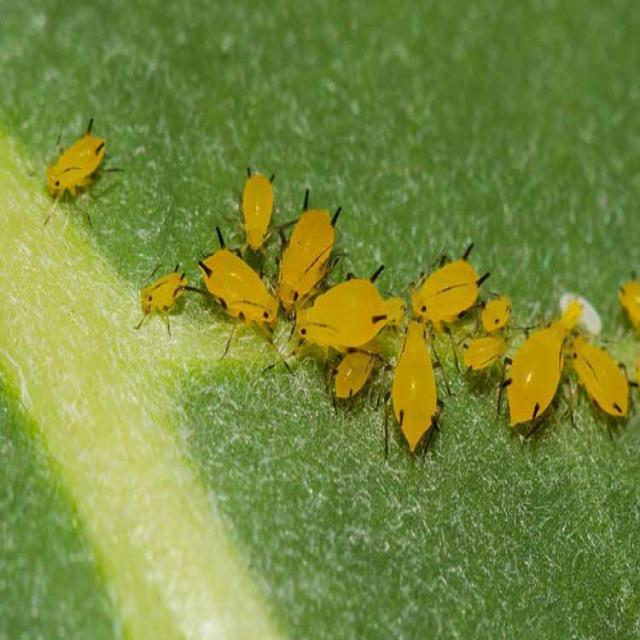aphid: (200, 229, 284, 375), (492, 292, 566, 452), (282, 268, 402, 360), (378, 316, 449, 465), (31, 122, 118, 235), (404, 241, 486, 335), (562, 326, 635, 428), (276, 188, 336, 312), (134, 264, 192, 336), (235, 167, 278, 248), (457, 326, 513, 380), (480, 292, 518, 330)
